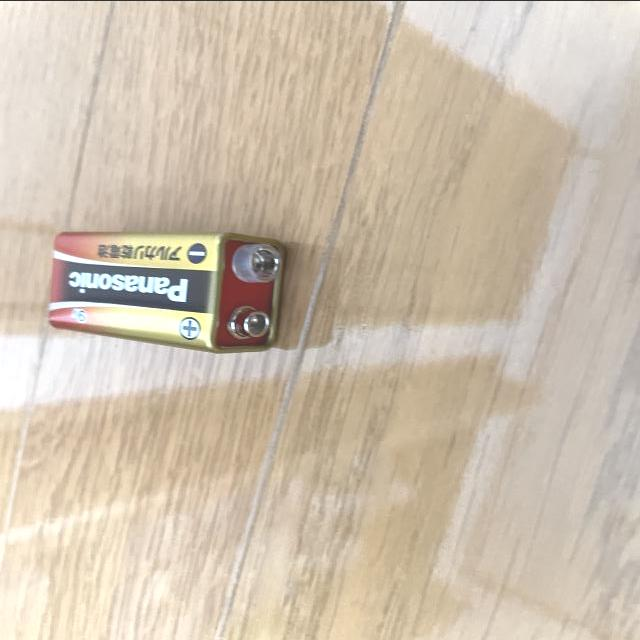9V: (48, 231, 289, 354)
